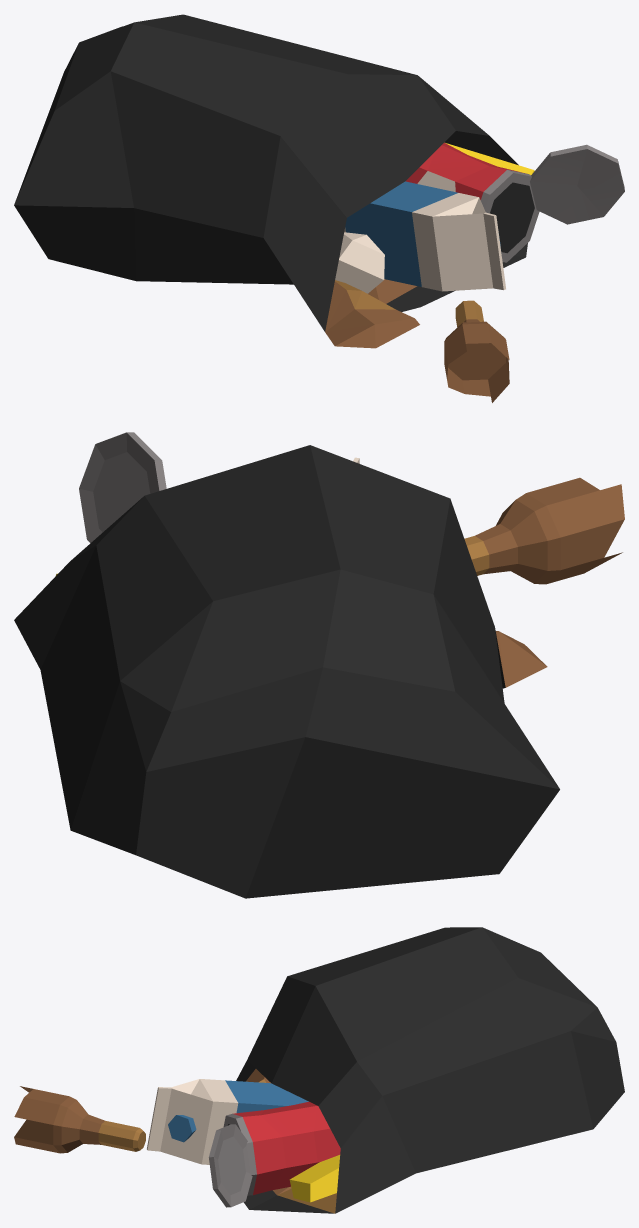
Rendered from apocalypse_garbage-open-a.fbx.
3 views of the same model, one above another, from view 1: azimuth 30°, elevation 25°; view 2: azimuth 150°, elevation 25°; view 3: azimuth 270°, elevation 25° (orthographic). The views are drawn at different scales.
Visible parts, largest first — view 1: apocalypse_garbage_open_a; view 2: apocalypse_garbage_open_a; view 3: apocalypse_garbage_open_a.
Boxes of the visible parts, left/top/right/bottom form: apocalypse_garbage_open_a: left=14, top=14, right=624, bottom=402; apocalypse_garbage_open_a: left=14, top=432, right=624, bottom=898; apocalypse_garbage_open_a: left=14, top=927, right=624, bottom=1213.
Bounding box in the file's own units: 157 × 65 × 200.
